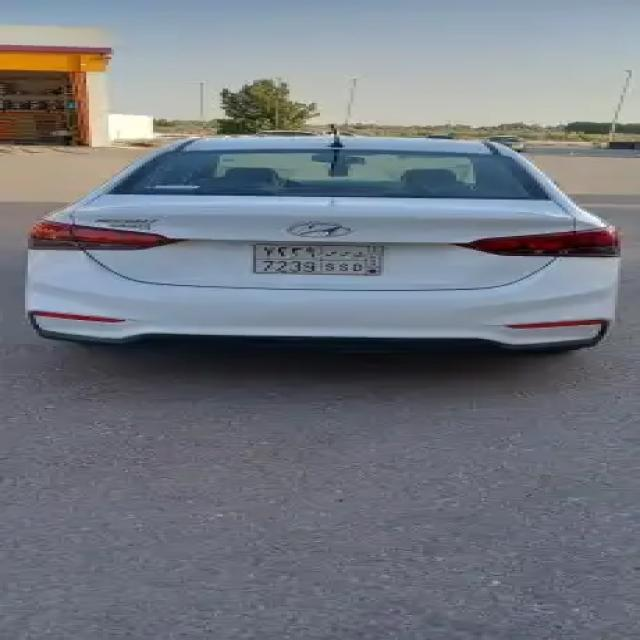license_plate: (254, 260, 368, 276)
